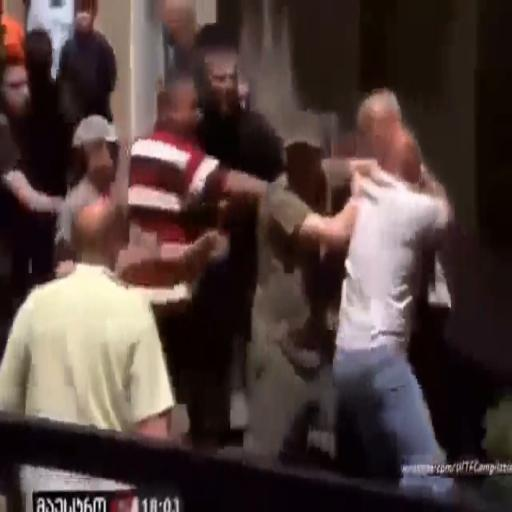nao-violencia: (121, 55, 363, 467)
violencia: (252, 84, 460, 481), (318, 79, 470, 512)
